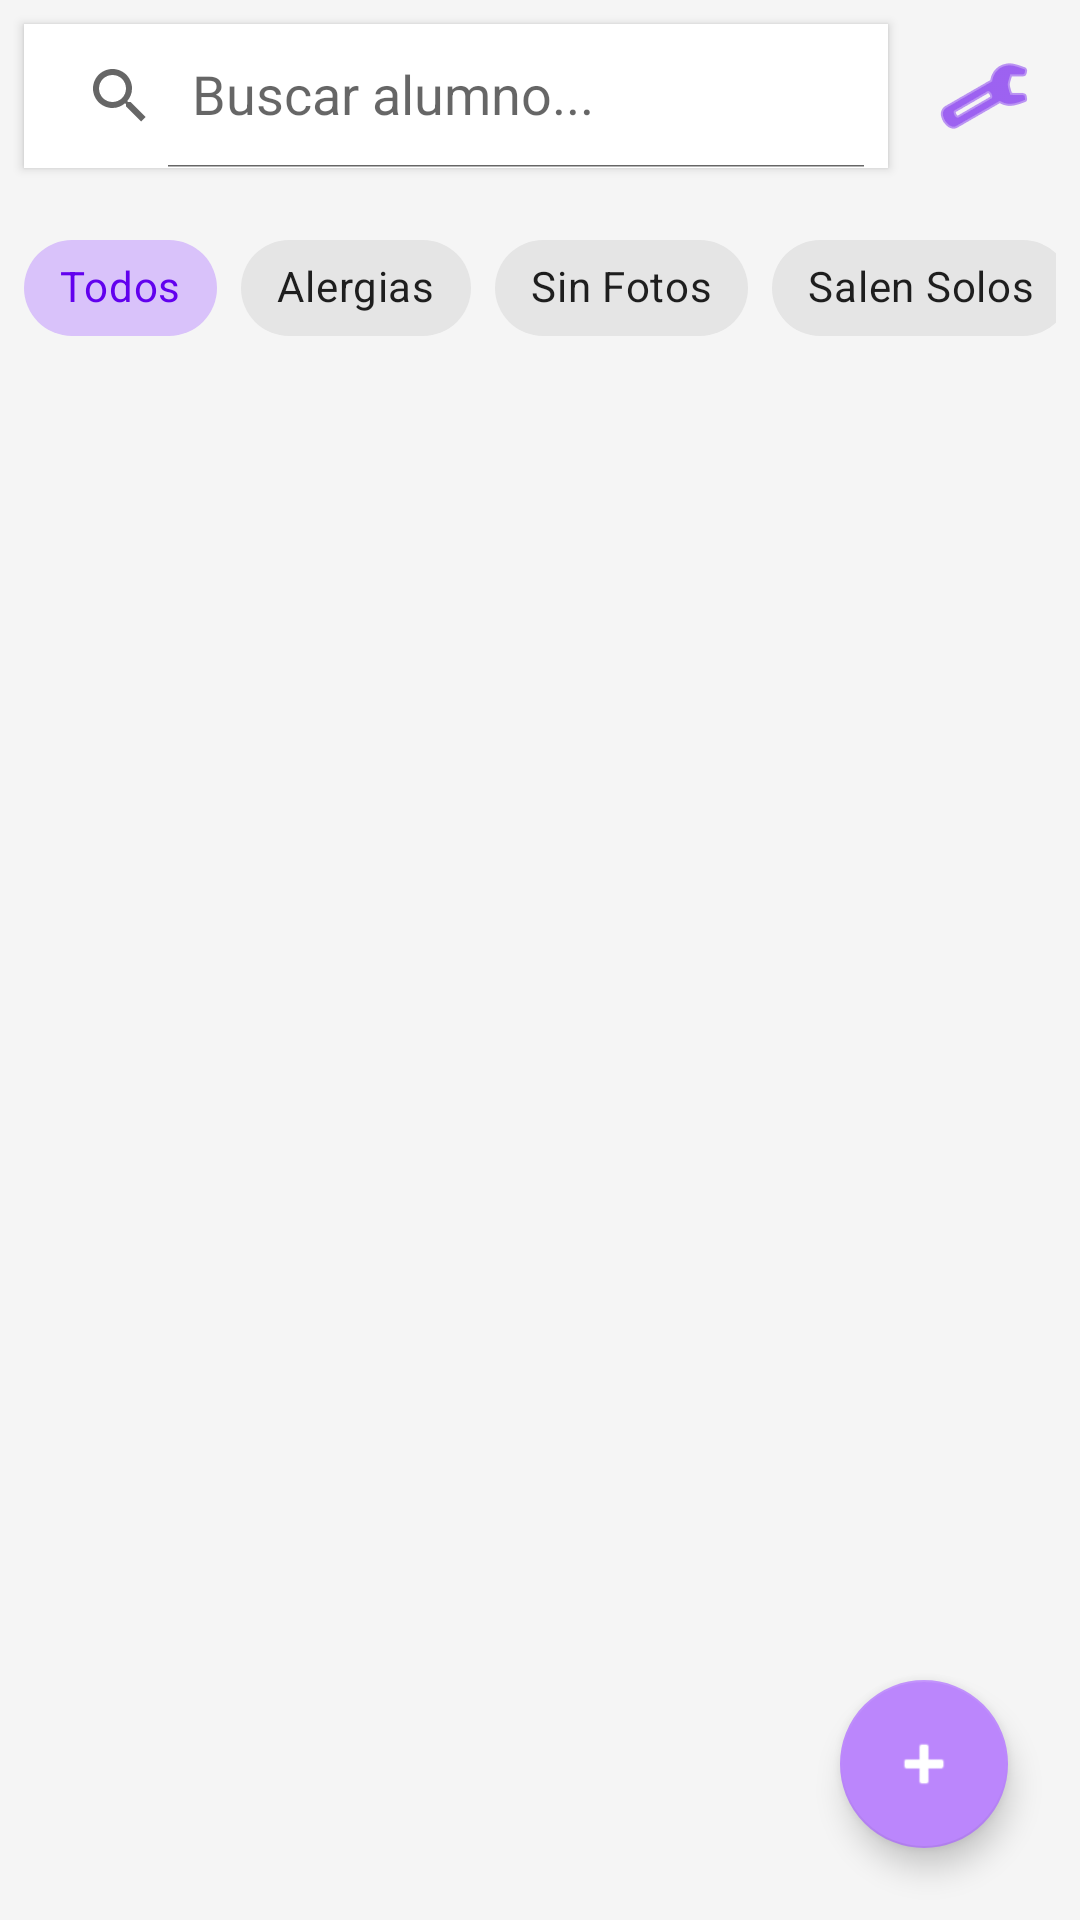

Icons on this 1080 x 1920 Android screen, each with its box as (x1, y1, x2, y2):
add: (840, 1680, 1008, 1848)
manage: (941, 63, 1027, 129)
